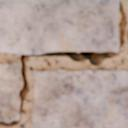brick: (0, 0, 117, 53), (32, 68, 127, 127), (0, 61, 19, 121)
crack: (0, 0, 127, 127)
